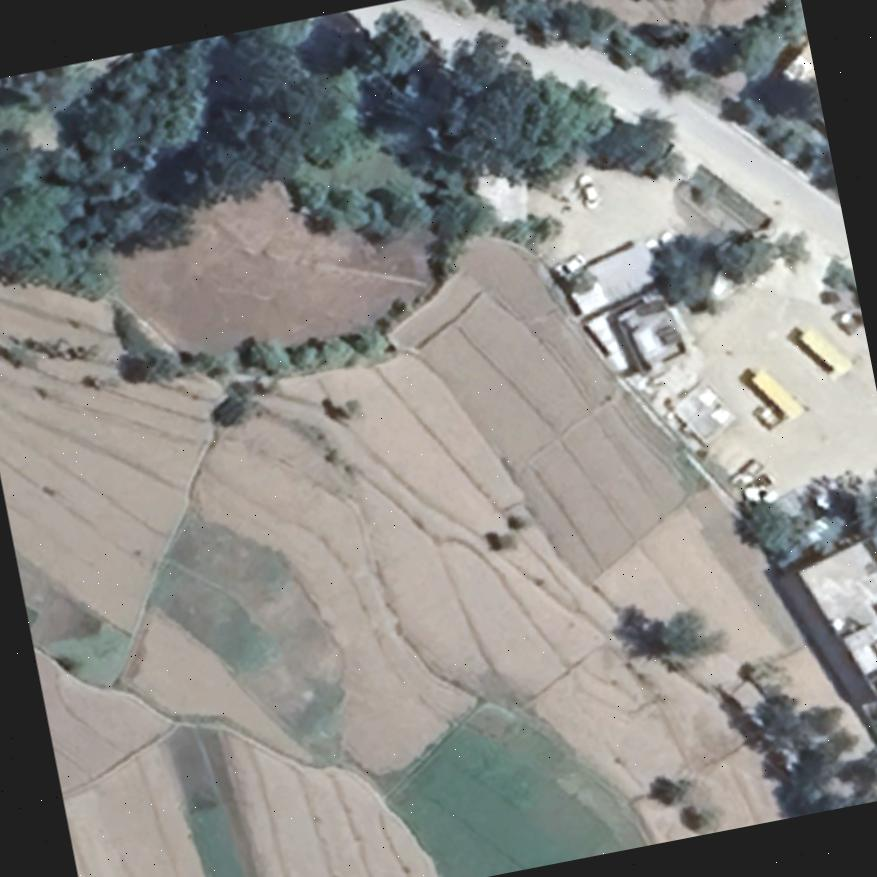Solarpanel: (631, 293, 668, 318)
